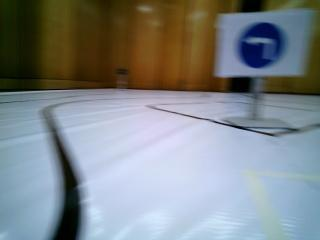left: (225, 18, 299, 74)
